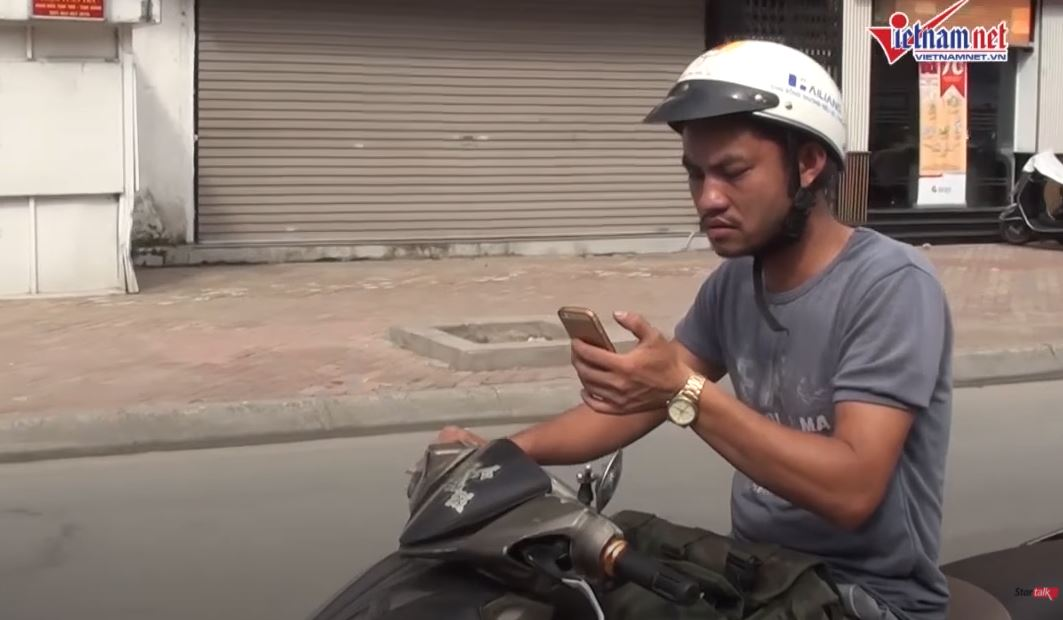su dung dien thoai: (558, 39, 845, 411)
